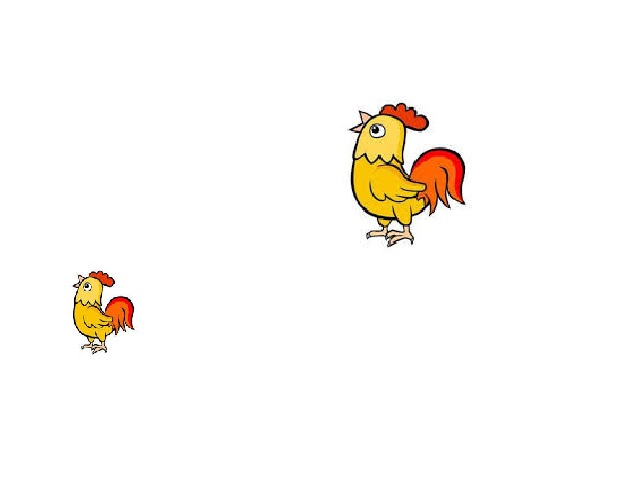crown: (384, 100, 434, 131), (91, 269, 111, 288)
eyes: (369, 120, 387, 139), (83, 282, 93, 292)
feet: (364, 223, 416, 248), (78, 341, 111, 359)
tail: (414, 150, 468, 208), (103, 297, 139, 334)
